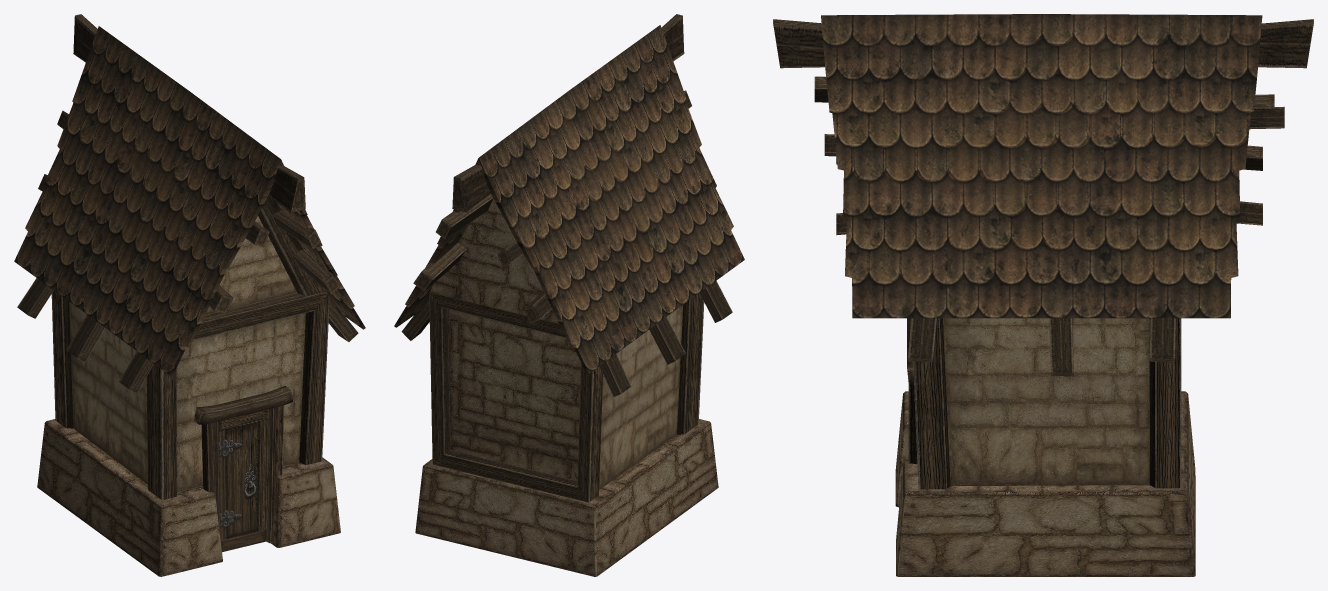
File: House_Small_02.fbx
The picture shows the model from 3 angles, left to right: view 1: azimuth 30°, elevation 25°; view 2: azimuth 150°, elevation 25°; view 3: azimuth 270°, elevation 25°; orthographic projection. The views are drawn at different scales.
Parts seen in each view (by area): view 1: House_Small_02; view 2: House_Small_02; view 3: House_Small_02.
Boxes of the visible parts, left/top/right/bottom form: House_Small_02: left=14, top=14, right=365, bottom=576; House_Small_02: left=394, top=14, right=744, bottom=576; House_Small_02: left=773, top=14, right=1313, bottom=576.
Bounding box in the file's own units: 4.89 × 8.43 × 8.12.
